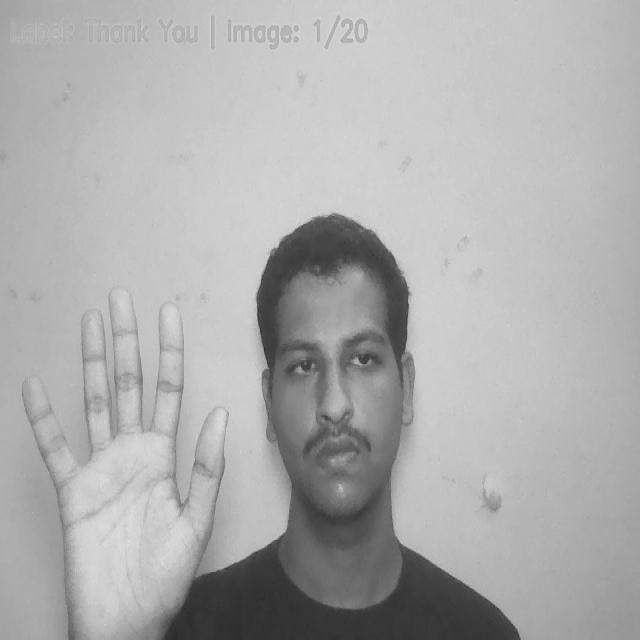Hello: (21, 284, 237, 638)
